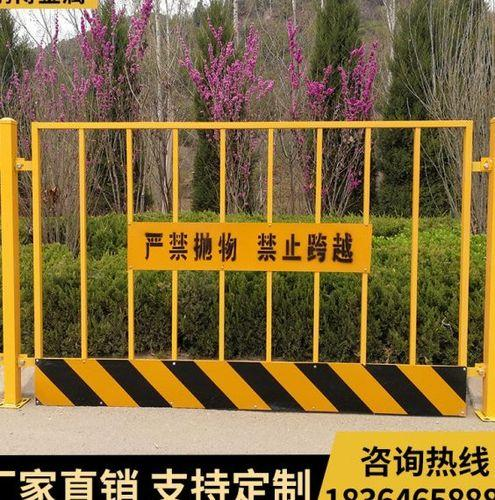sign: (1, 107, 492, 422)
